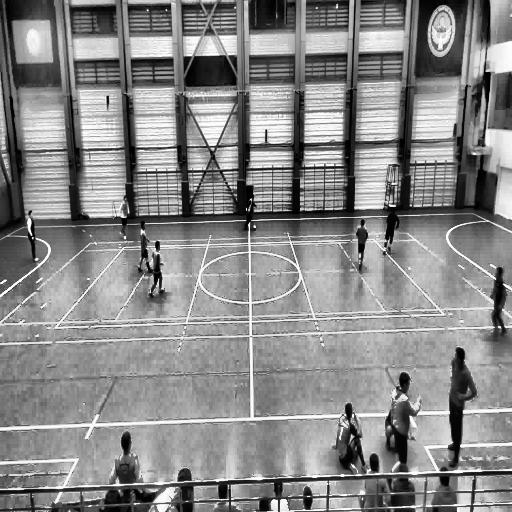ball: (252, 221, 256, 231)
player: (444, 346, 478, 466), (384, 374, 419, 470), (332, 401, 371, 476), (109, 430, 146, 495), (356, 452, 390, 512), (488, 266, 508, 340), (390, 461, 416, 512), (431, 466, 457, 512), (149, 240, 165, 298), (382, 206, 400, 253), (138, 219, 152, 274), (25, 209, 39, 263), (355, 218, 368, 271), (243, 191, 255, 231), (120, 196, 130, 240)
